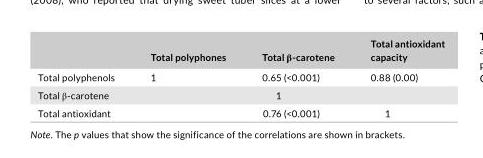table: (37, 37, 443, 118)
table column: (131, 37, 243, 118), (243, 37, 351, 118), (37, 37, 131, 118), (351, 37, 443, 118)
table column header: (37, 37, 443, 68)
table row: (37, 37, 443, 68), (37, 85, 443, 104), (37, 68, 443, 85), (37, 104, 443, 118)
